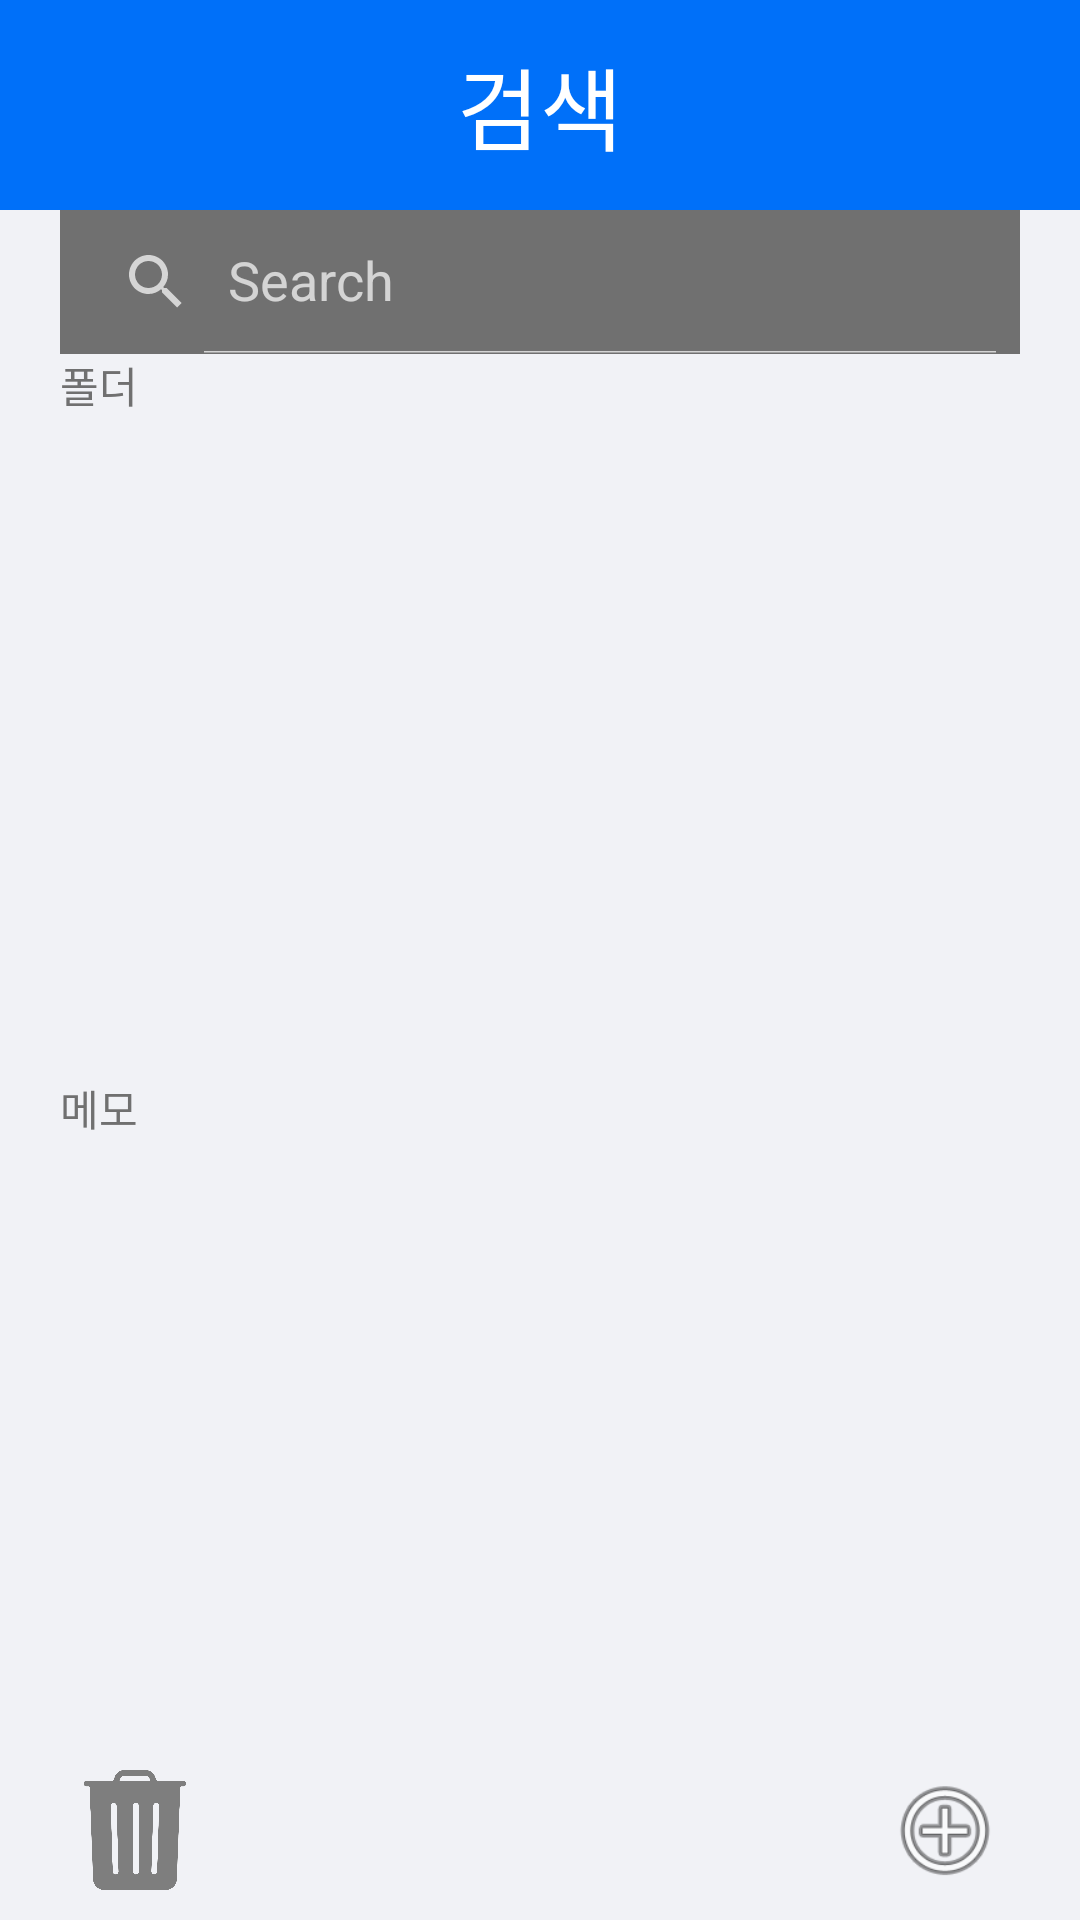

Locate icon controls on the screen. Image size 1080×1920, boxes as (x1, y1, x2, y2).
add: (900, 1786, 990, 1875)
trash: (84, 1770, 186, 1890)
